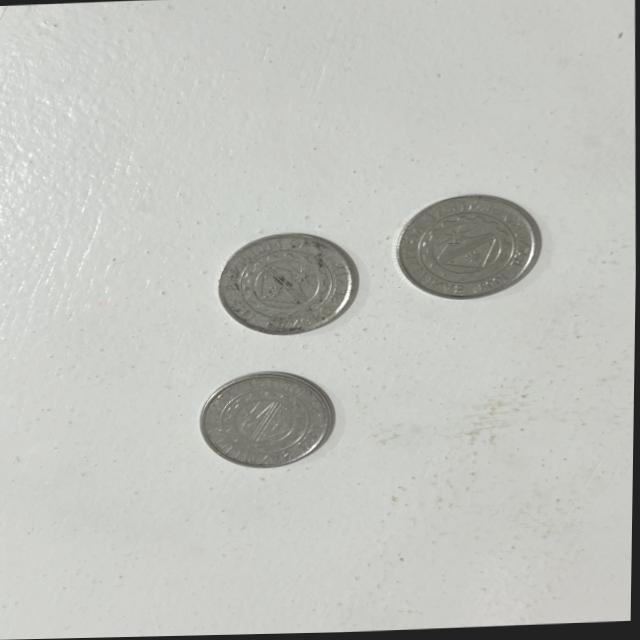1_Old_Back: (412, 211, 523, 290), (211, 383, 320, 457), (236, 247, 336, 327)
